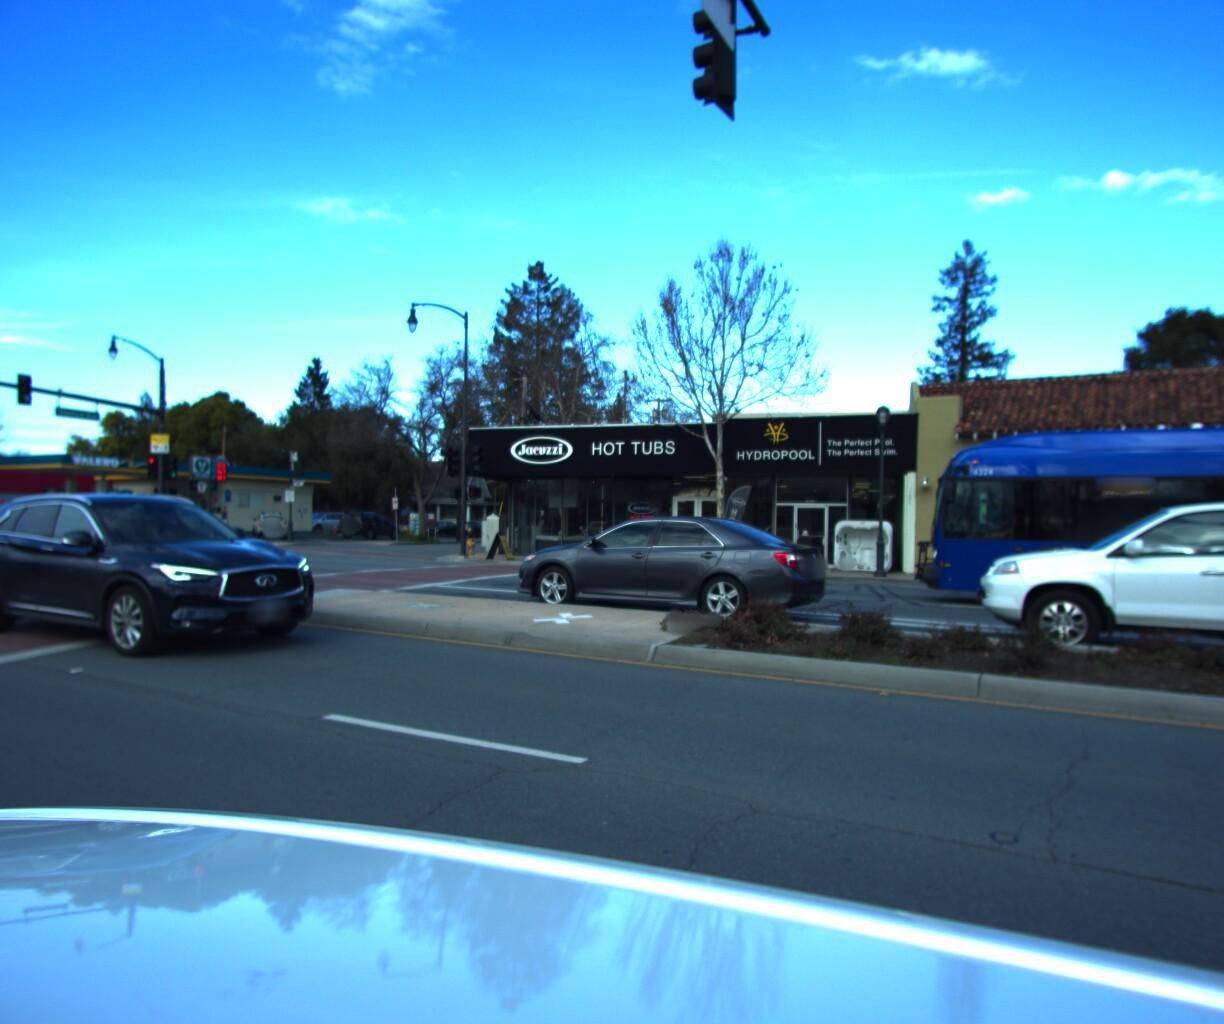bus: (886, 307, 1224, 768)
car: (0, 486, 343, 668), (953, 491, 1224, 690), (488, 507, 841, 631), (330, 504, 404, 535), (253, 508, 293, 536), (420, 516, 463, 534), (0, 501, 9, 530)
